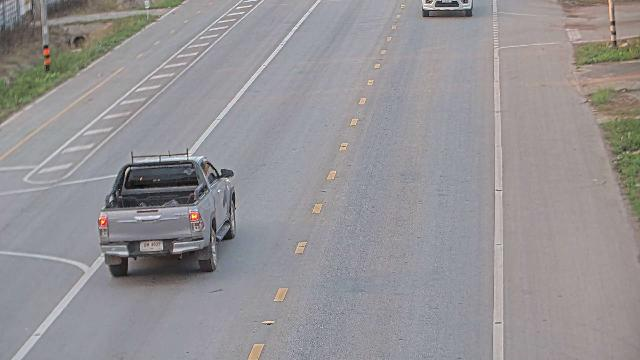pickup-truck: (97, 149, 237, 277), (421, 0, 473, 17)
